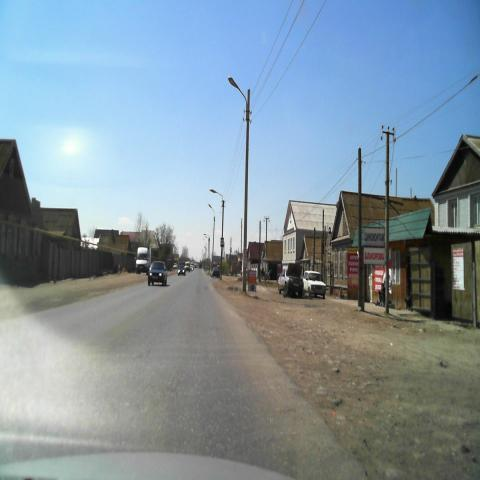5_16: (220, 238, 224, 248)
